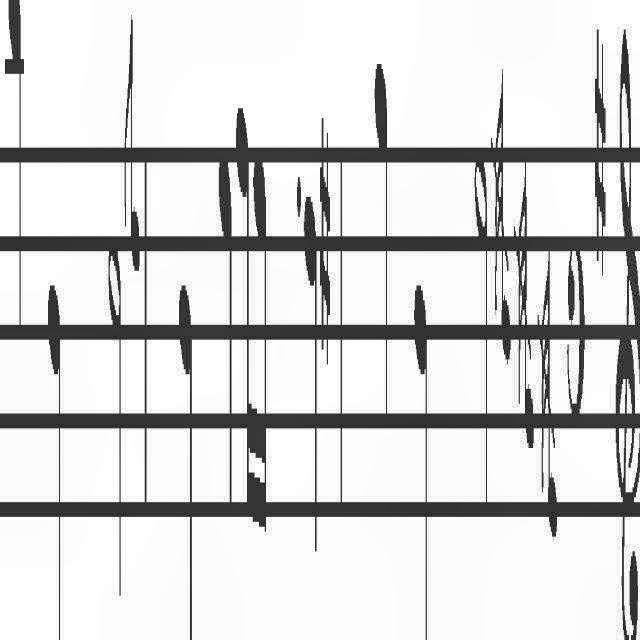Bass-clef: (615, 10, 640, 640), (639, 10, 640, 640)
Diez: (318, 112, 332, 364), (594, 25, 606, 286)
Half-note: (474, 147, 488, 515), (108, 238, 122, 602)
Quarter-note: (413, 271, 430, 640), (373, 46, 389, 426), (218, 148, 234, 524), (178, 266, 194, 640), (302, 197, 318, 568), (47, 271, 62, 640), (6, 1, 22, 336)
Sixteenth-note: (235, 82, 253, 538), (252, 133, 268, 559)
